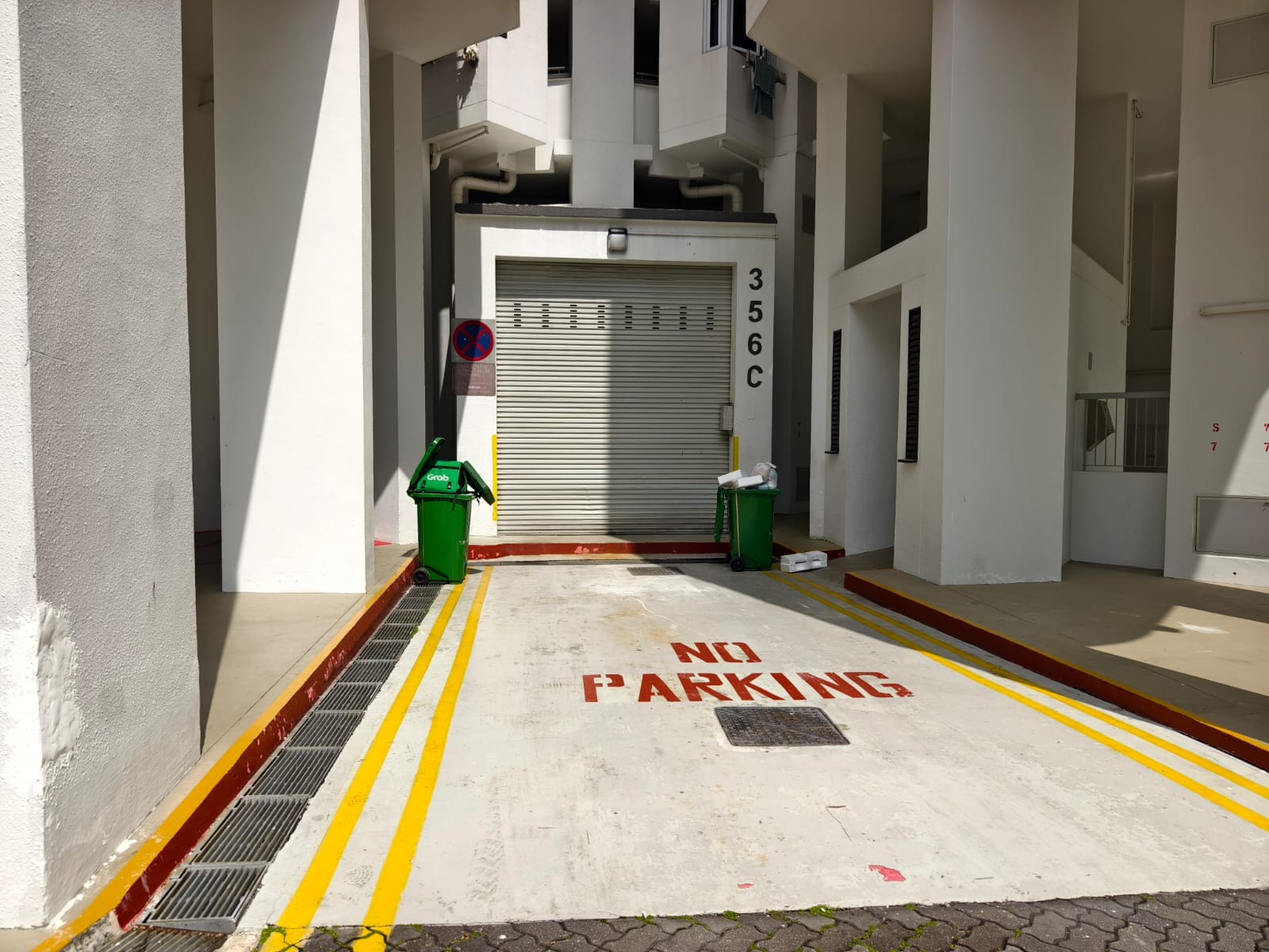bin_full: (407, 437, 494, 583), (714, 463, 778, 570)
bulk_waste: (780, 551, 828, 573)
